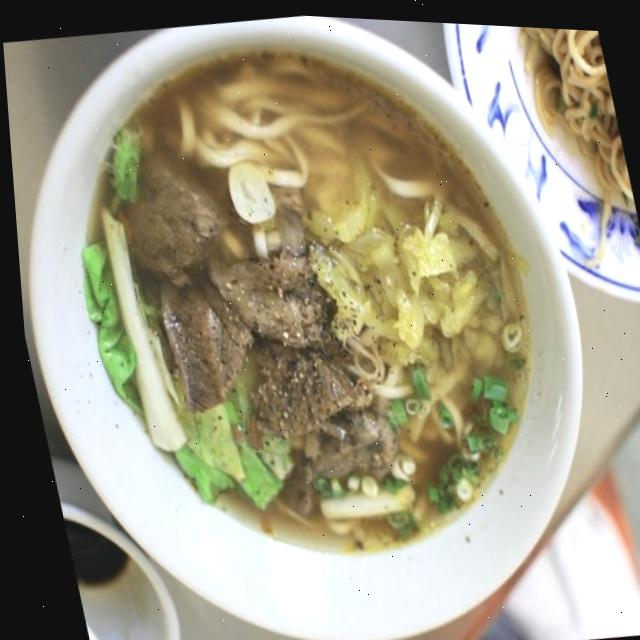面条主食: (14, 10, 597, 640)
